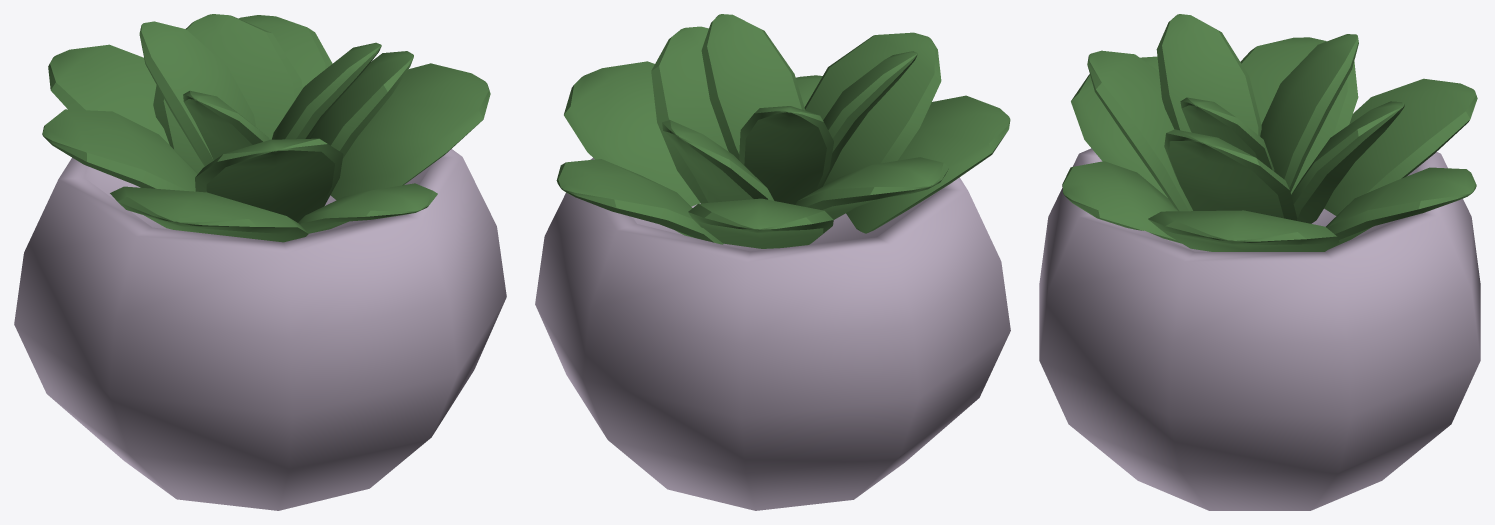
File: AloePlant.fbx
3 renders of one model, left to right at view 1: azimuth 30°, elevation 25°; view 2: azimuth 150°, elevation 25°; view 3: azimuth 270°, elevation 25°, orthographic. The views are drawn at different scales.
Visible parts, largest first — view 1: pot, aloe; view 2: pot, aloe; view 3: pot, aloe.
Part boxes in pixels (box(x1,y1,x2,y2)): pot: box(14, 149, 506, 510); aloe: box(42, 14, 490, 242); pot: box(535, 158, 1010, 510); aloe: box(556, 14, 1010, 248); pot: box(1039, 148, 1480, 510); aloe: box(1062, 14, 1477, 251).
Bounding box in the file's own units: 46.9 × 44.94 × 45.47.
